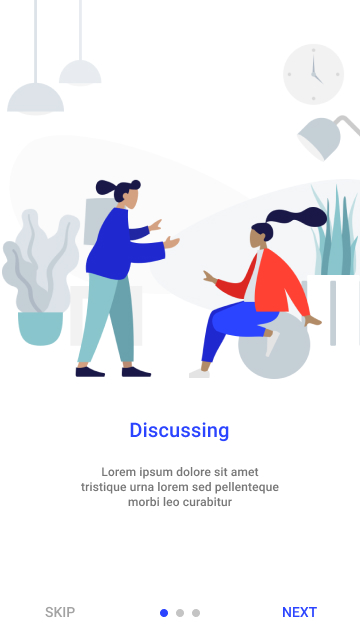Image: (1, 1, 360, 381)
PageIndicator: (160, 608, 201, 618)
Text: (80, 466, 280, 508), (130, 421, 230, 443), (282, 606, 318, 618), (45, 606, 76, 618)
